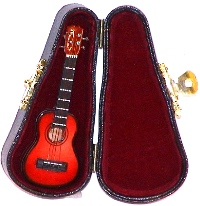guitar: (20, 24, 87, 187)
